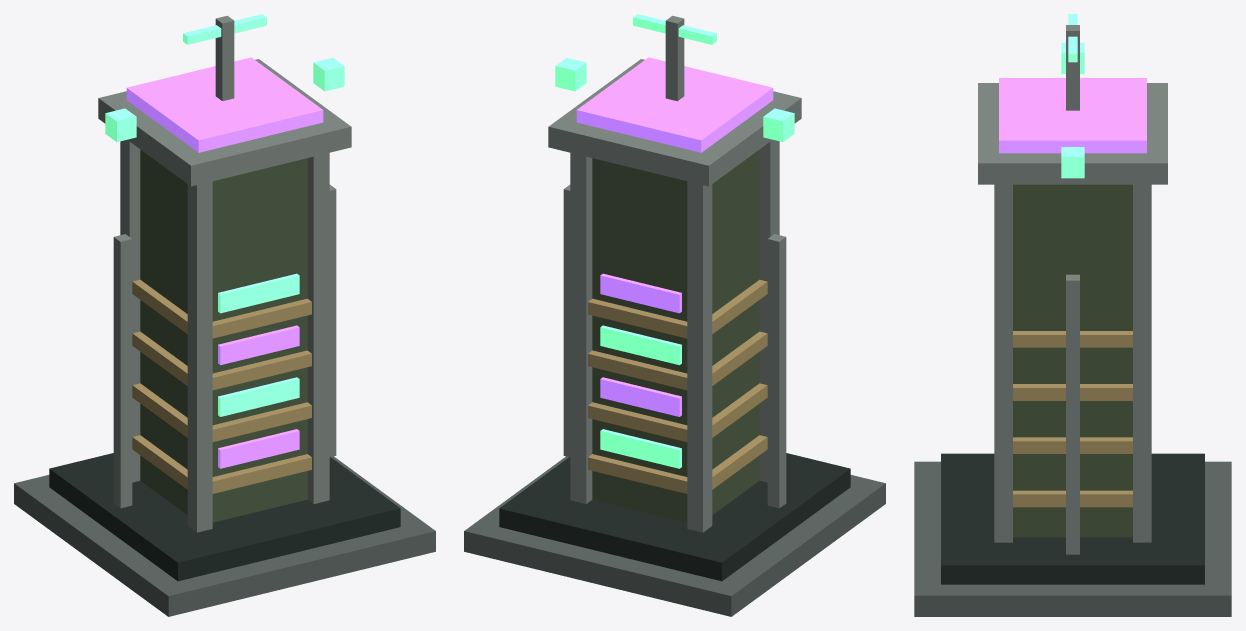
The model's file is chronicle_beacon_l04.glb.
The picture shows the model from 3 angles, left to right: view 1: azimuth 30°, elevation 25°; view 2: azimuth 150°, elevation 25°; view 3: azimuth 270°, elevation 25°; orthographic projection. The views are drawn at different scales.
Parts seen in each view (by area): view 1: chronicle_beacon_l04; view 2: chronicle_beacon_l04; view 3: chronicle_beacon_l04.
Part boxes in pixels (x1,y1,x2,y2): chronicle_beacon_l04: (14, 14, 435, 616); chronicle_beacon_l04: (464, 14, 885, 616); chronicle_beacon_l04: (914, 14, 1231, 616).
Size of the model in its own units: 2.7 by 4.91 by 2.7.
